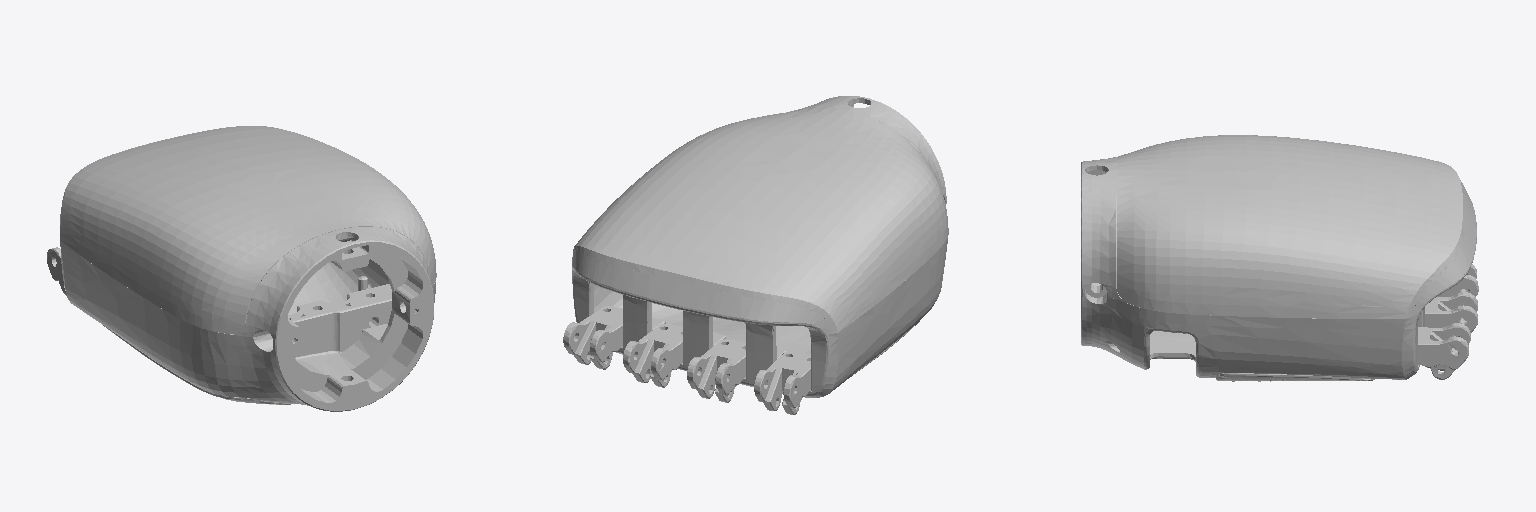
File: L_hand_base_link_new.obj
The picture shows the model from 3 angles: view 1: azimuth 30°, elevation 25°; view 2: azimuth 150°, elevation 25°; view 3: azimuth 270°, elevation 25°; orthographic projection.
Parts seen in each view (by area): view 1: L_hand_base_link; view 2: L_hand_base_link; view 3: L_hand_base_link.
Boxes of the visible parts, x1,y1,x2,y2 form: L_hand_base_link: [47, 126, 436, 411]; L_hand_base_link: [563, 96, 948, 414]; L_hand_base_link: [1081, 135, 1478, 381].
Bounding box in the file's own units: 0.0773 × 0.0475 × 0.0997.